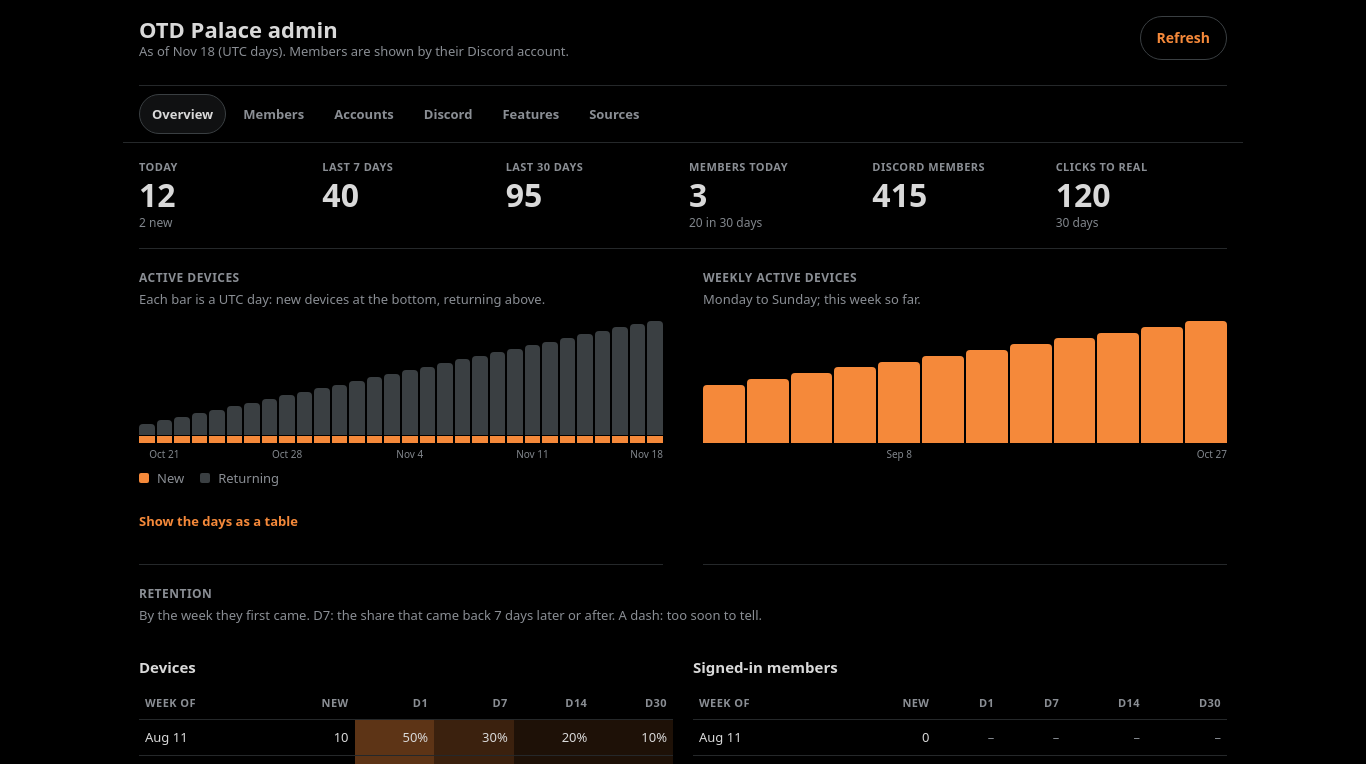
Test: the admin panel's tabs › Accounts: the accounts looked up with their size, and who looks up most
The width and height of the screenshot is (1366, 764).
Click the tab "Accounts" at (364, 114), box [321,94,407,134]
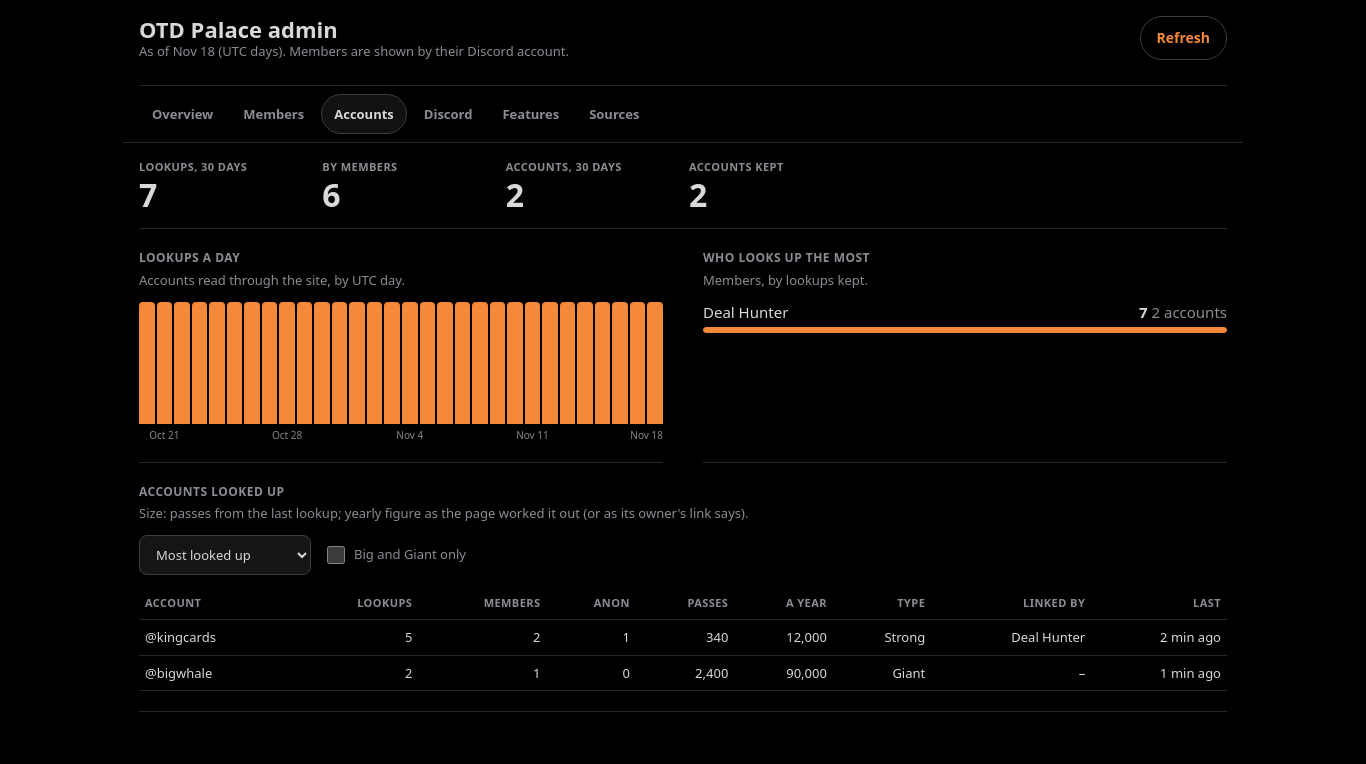
Result: the number of rows is 3 at [139,587,1227,619]; [139,619,1227,655]; [139,655,1227,691]
Click the checkbox labelled "Big and Giant only" at (336, 555), box [327,546,345,564]
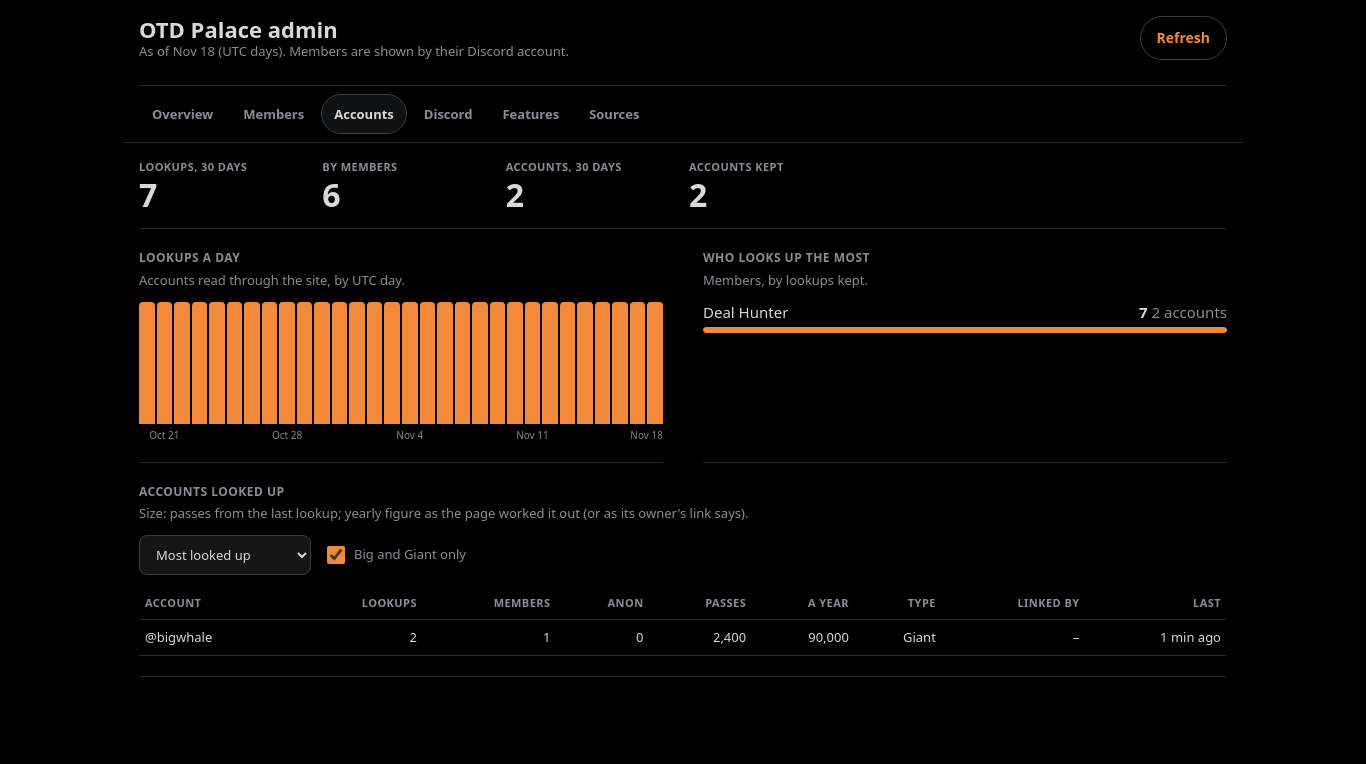
Result: the column heading "@bigwhale" is shown at [139,619,293,655]
Result: the list named "Power users" shows "Deal Hunter" at [703,302,788,322]
Result: the number of rows is 2 at [139,587,1227,619]; [139,619,1227,655]
